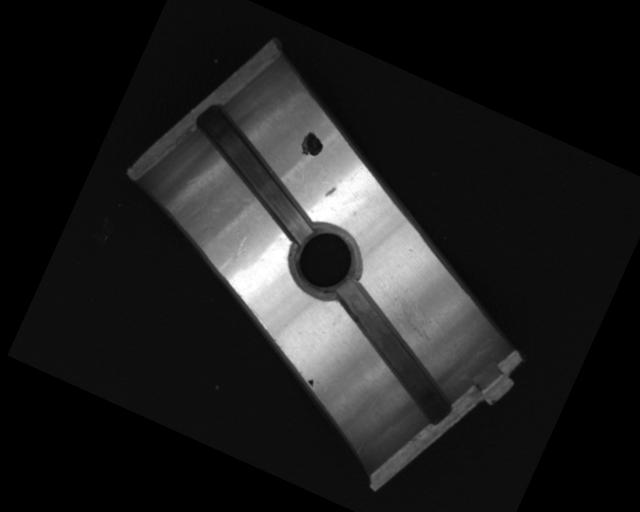blot: (296, 129, 328, 161), (305, 376, 317, 389)
bruise: (215, 229, 252, 278), (323, 182, 337, 199)
gap: (305, 278, 481, 426), (171, 101, 341, 243)
hole: (280, 214, 371, 308)
scratch: (373, 281, 462, 354)
